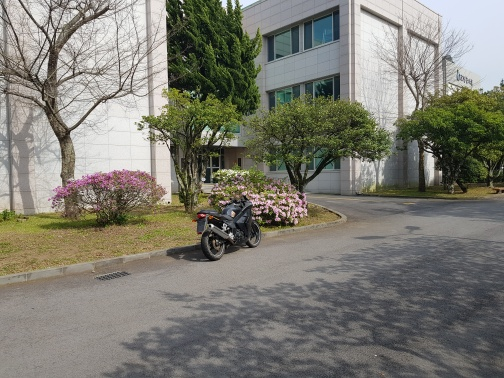College of Nursing: (20, 4, 429, 189)
